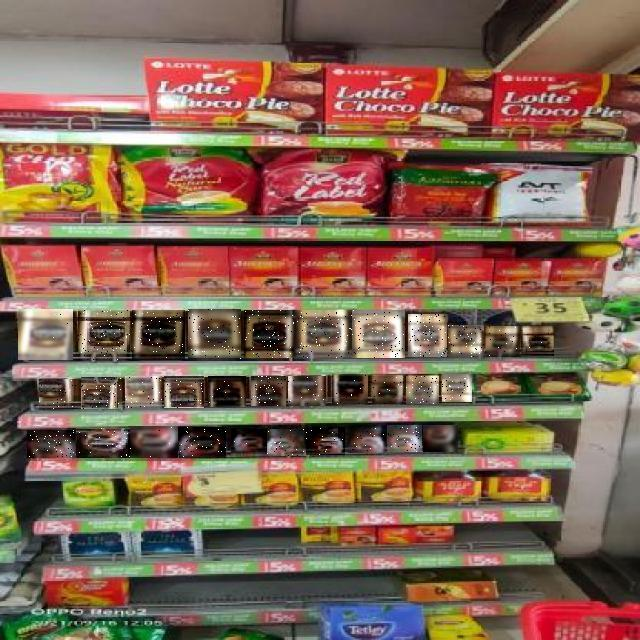Coffee: (294, 310, 352, 359), (18, 309, 73, 360), (188, 310, 241, 360), (132, 311, 185, 361), (78, 311, 130, 361), (352, 310, 405, 358), (244, 310, 296, 358), (408, 314, 447, 357), (76, 428, 130, 458), (128, 427, 178, 459), (179, 427, 226, 458), (27, 430, 75, 458), (165, 377, 205, 409), (82, 377, 122, 409), (126, 376, 164, 409), (208, 376, 246, 407), (40, 379, 78, 410), (448, 326, 484, 358), (289, 376, 327, 406), (308, 427, 348, 455), (332, 374, 368, 404), (268, 429, 308, 456), (348, 425, 386, 453), (486, 326, 520, 357), (251, 377, 286, 407), (521, 326, 554, 356), (424, 425, 460, 452), (387, 425, 422, 452), (231, 430, 267, 456), (406, 376, 439, 404), (442, 375, 472, 403), (373, 376, 403, 404)
